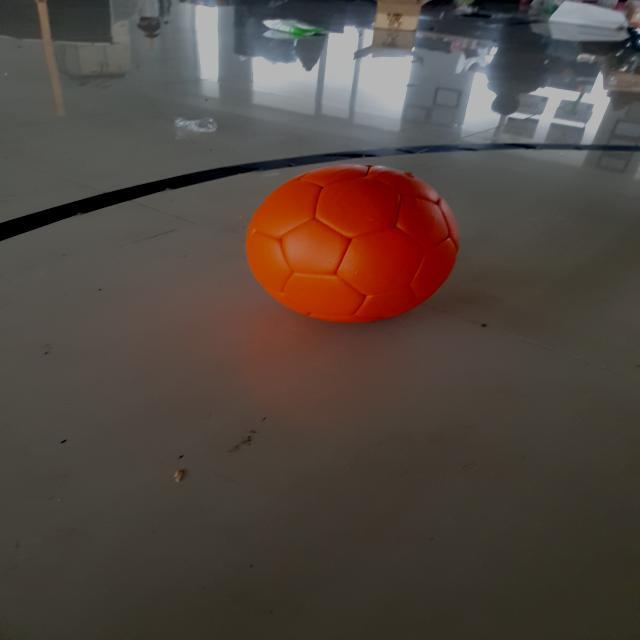bola: (238, 144, 463, 336)
